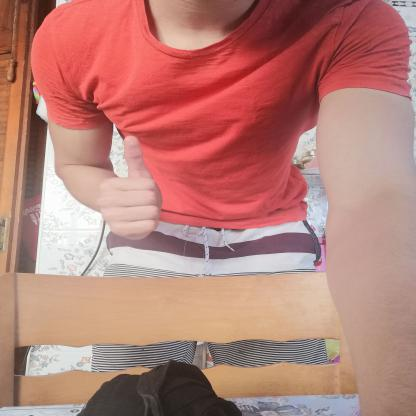ALIF: (84, 127, 178, 250)
